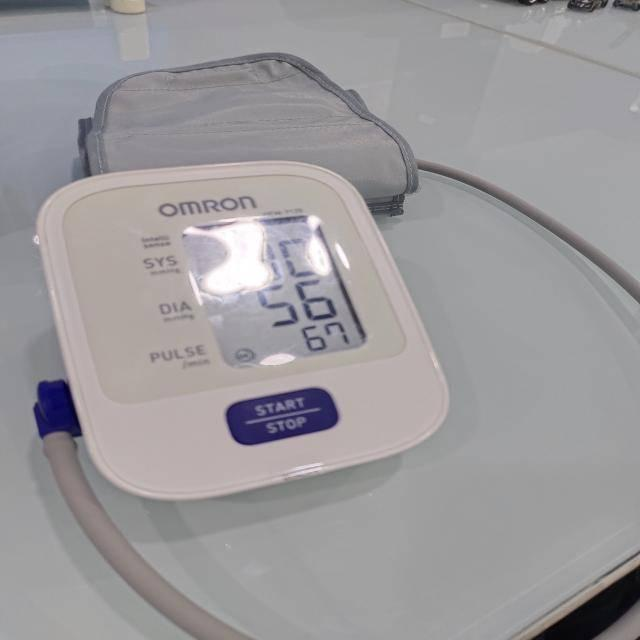bp: (35, 160, 446, 503)
